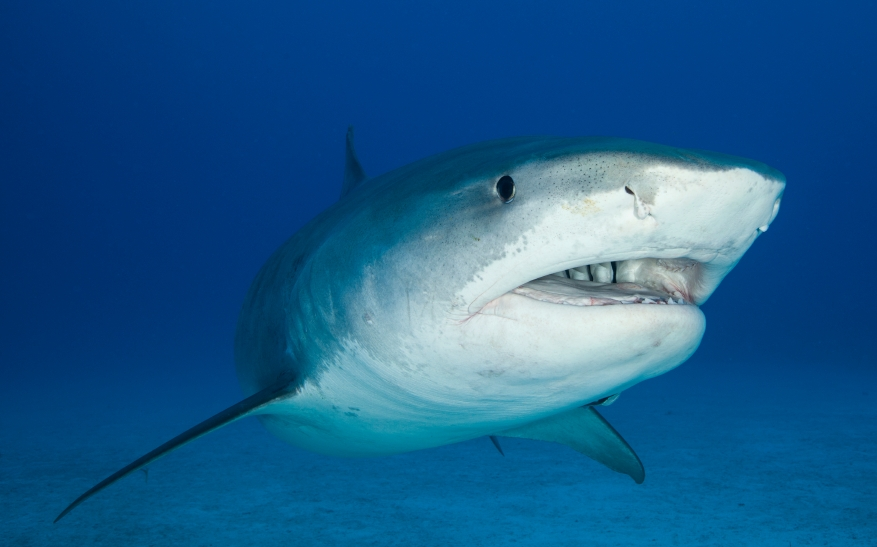shark: (29, 130, 812, 533)
